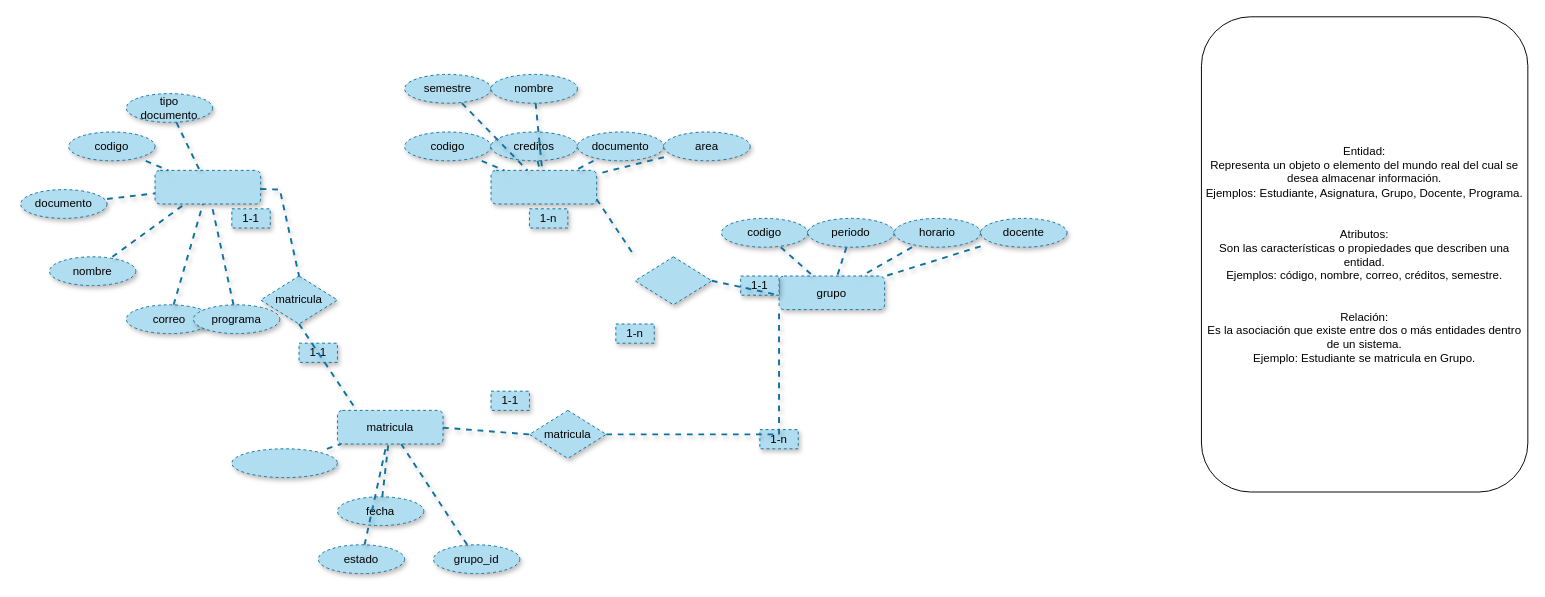
Some shapes in this 1545 by 597 pixel diagram are drawn without their labels. Here are the shapes that lost their labels. From the top down, the centre of each, then its label:
At [208,188]: "estudiante".
At [544,188]: "asignatura".
At [674,282]: "tiene".
At [285,464]: "estudiante_id".
